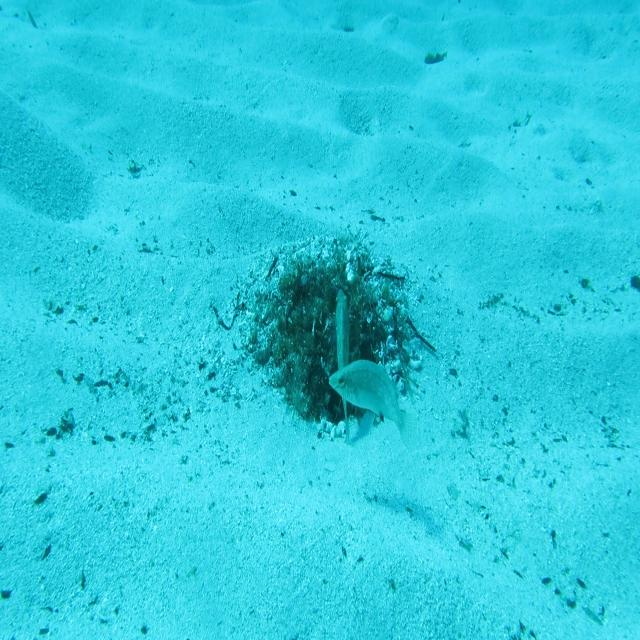FAN: (328, 283, 357, 445)
core_nest: (304, 280, 343, 312)
female: (328, 357, 420, 455)
nest: (230, 218, 428, 449)
vegetation: (423, 50, 447, 68), (629, 274, 640, 297)
